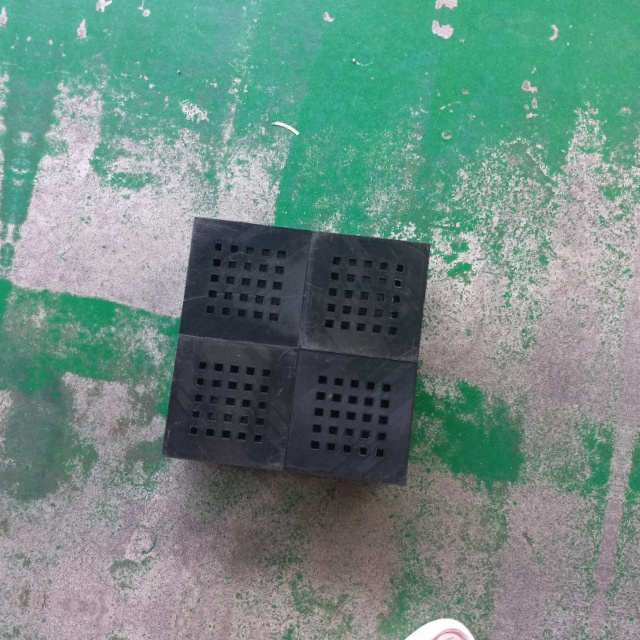pallet: (155, 210, 436, 495)
